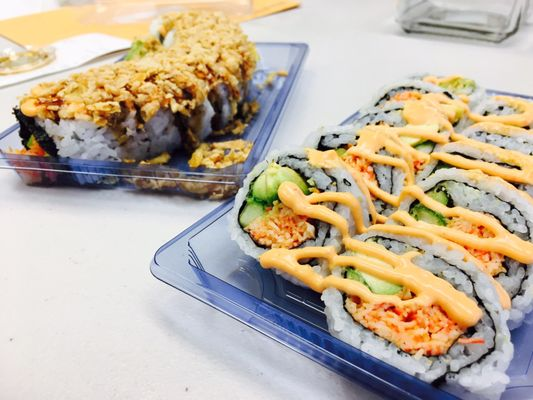sushi: (2, 12, 311, 199)
